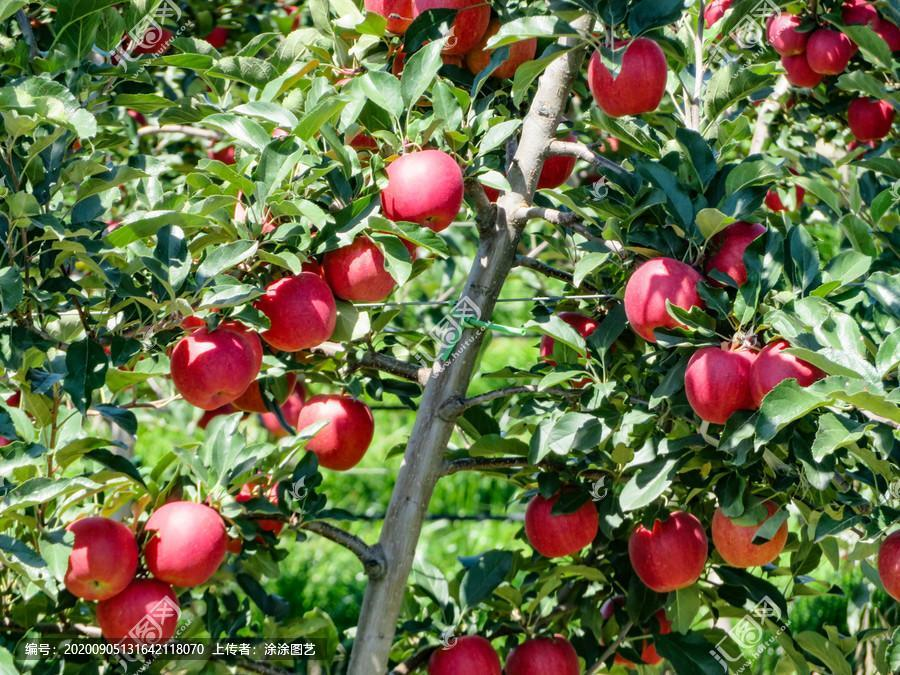apple: (167, 324, 261, 410), (139, 499, 227, 588), (628, 507, 708, 594), (256, 271, 338, 354), (380, 149, 463, 231), (59, 514, 137, 601), (623, 256, 702, 341), (586, 38, 667, 118), (295, 393, 374, 471), (681, 346, 755, 425), (709, 498, 789, 568), (97, 582, 179, 649), (324, 235, 400, 303), (522, 491, 597, 558), (502, 634, 578, 675), (427, 636, 502, 674), (804, 28, 855, 75), (764, 11, 814, 56), (849, 93, 895, 141), (779, 51, 821, 88)
